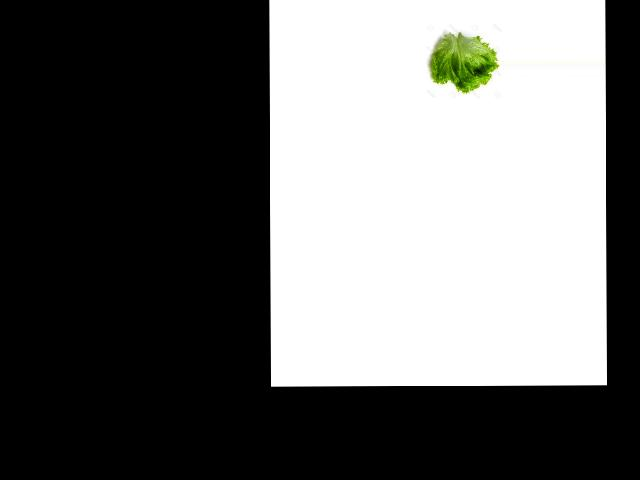lettuce: (424, 31, 500, 90)
